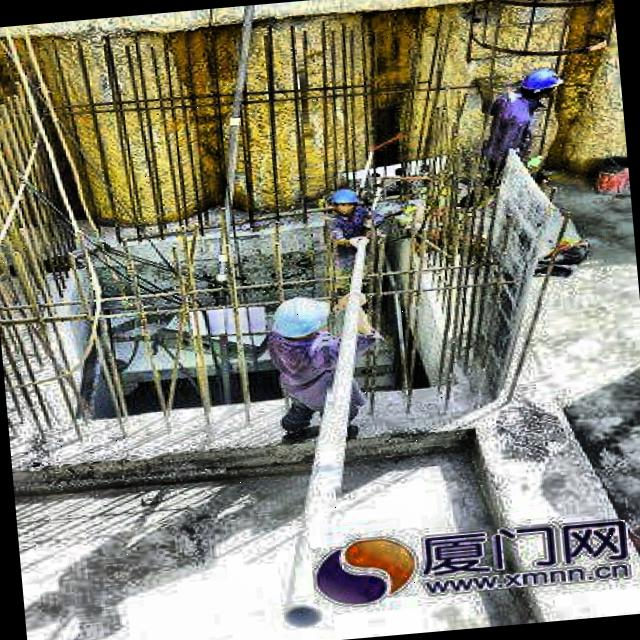helmet: (262, 288, 332, 367), (514, 62, 564, 106), (330, 187, 362, 218)
